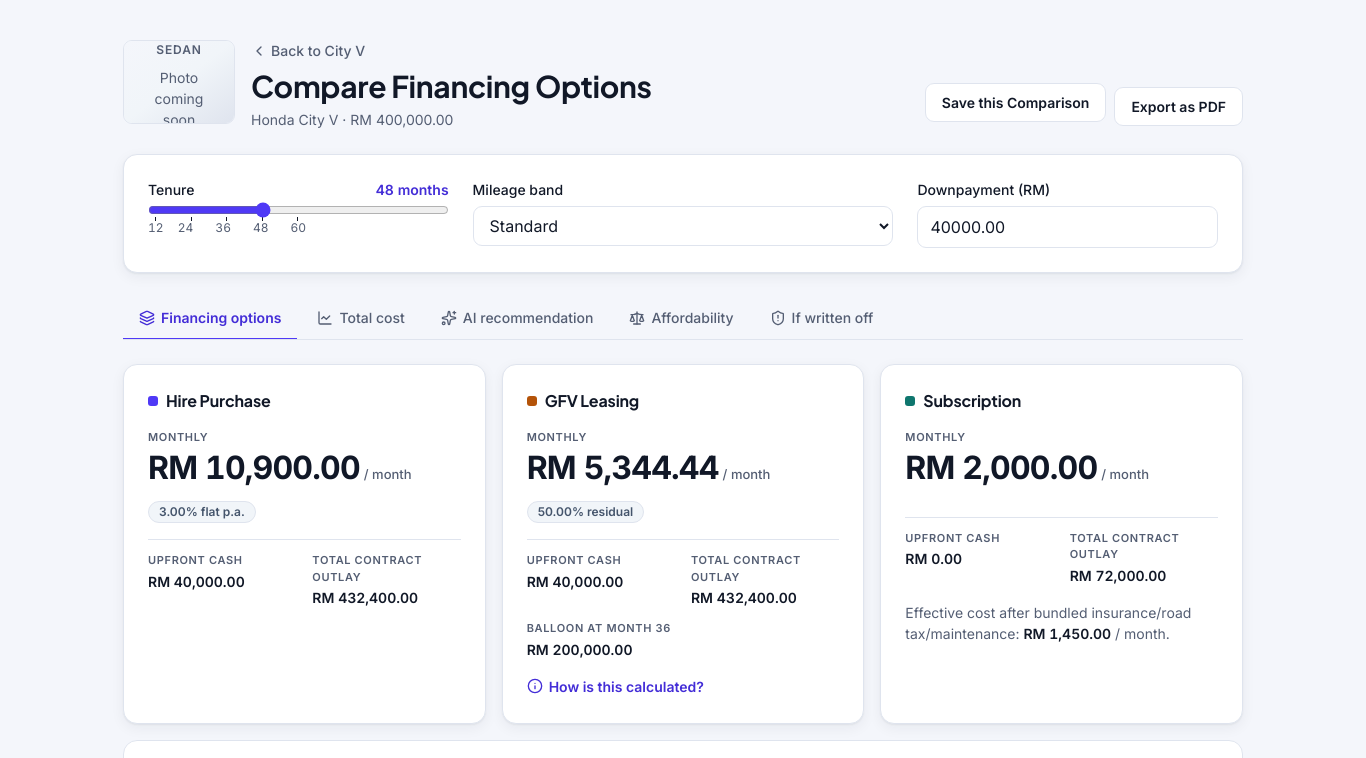
Test case: ComparisonPage › Export as PDF › surfaces the parsed .detail message from a 504 blob error response
The image size is (1366, 758).
Expected: the text "RM 10,900.00" is shown, left=148, top=448, right=360, bottom=486
Click the button "Export as PDF". click: (1179, 106)
box: left=1114, top=87, right=1243, bottom=126
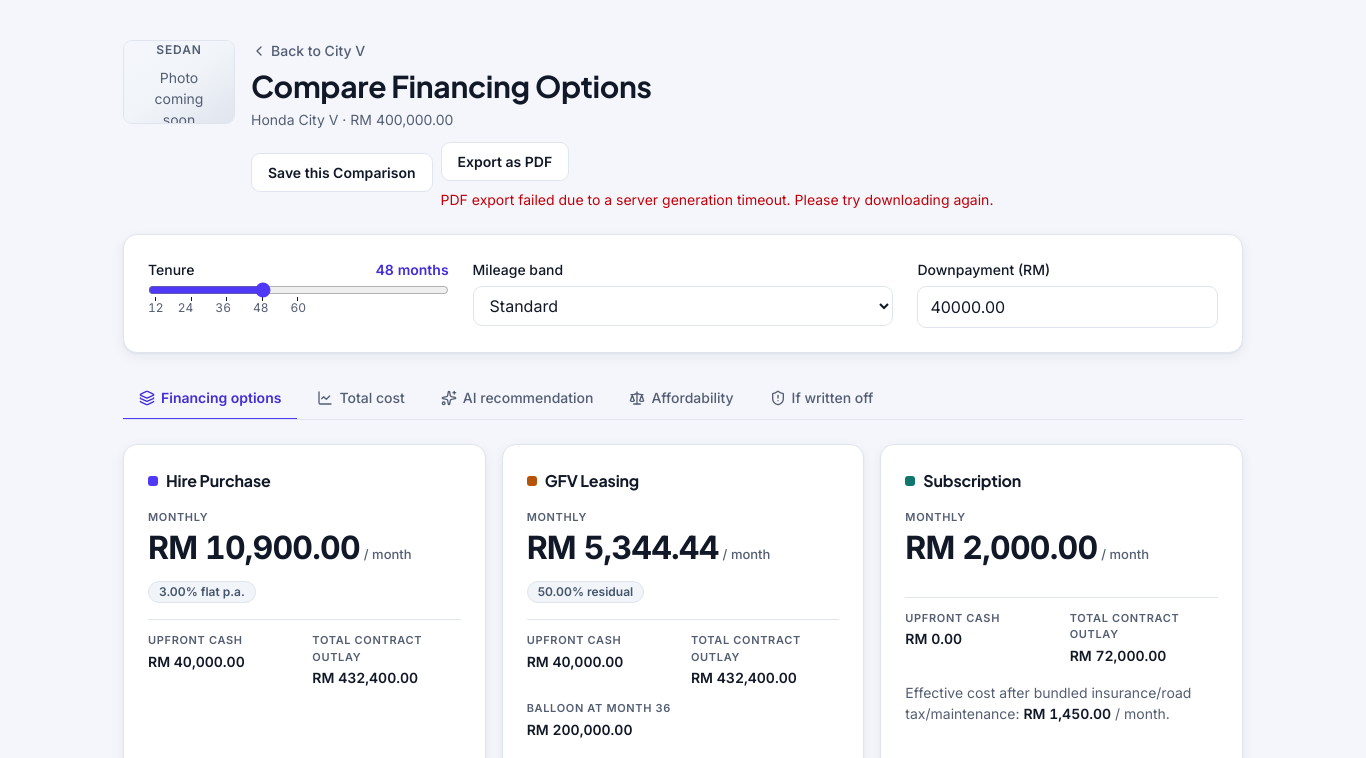
Now the text "PDF export failed due to a server generation timeout. Please try downloading again." is shown, box left=440, top=191, right=993, bottom=208
